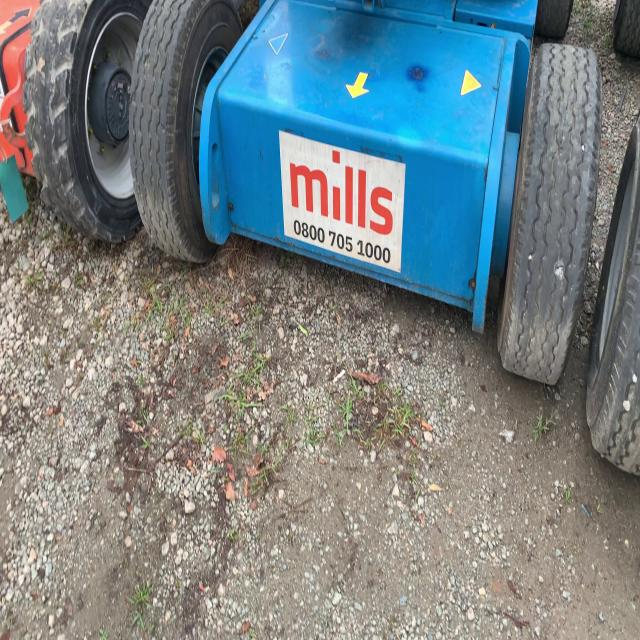Adesivos: (277, 125, 407, 278)
